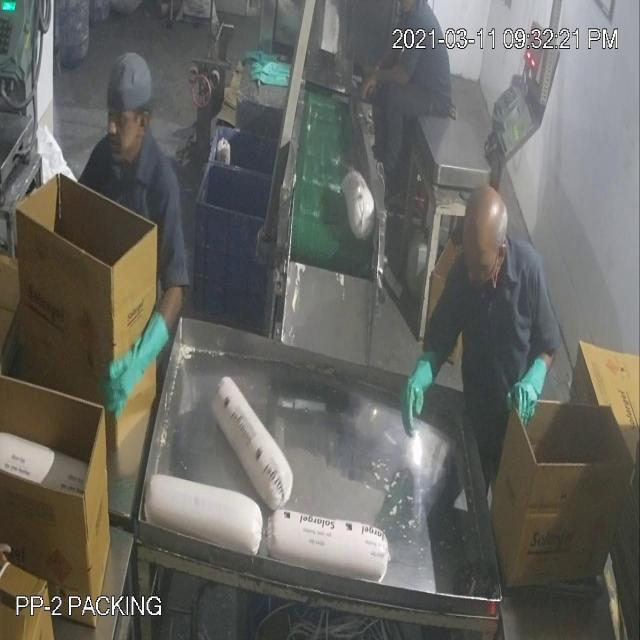Gloves: (50, 54, 526, 396)
